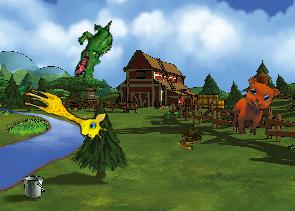bear: (229, 75, 281, 140)
crocodile: (73, 18, 114, 80)
giraffe: (17, 85, 112, 143)
